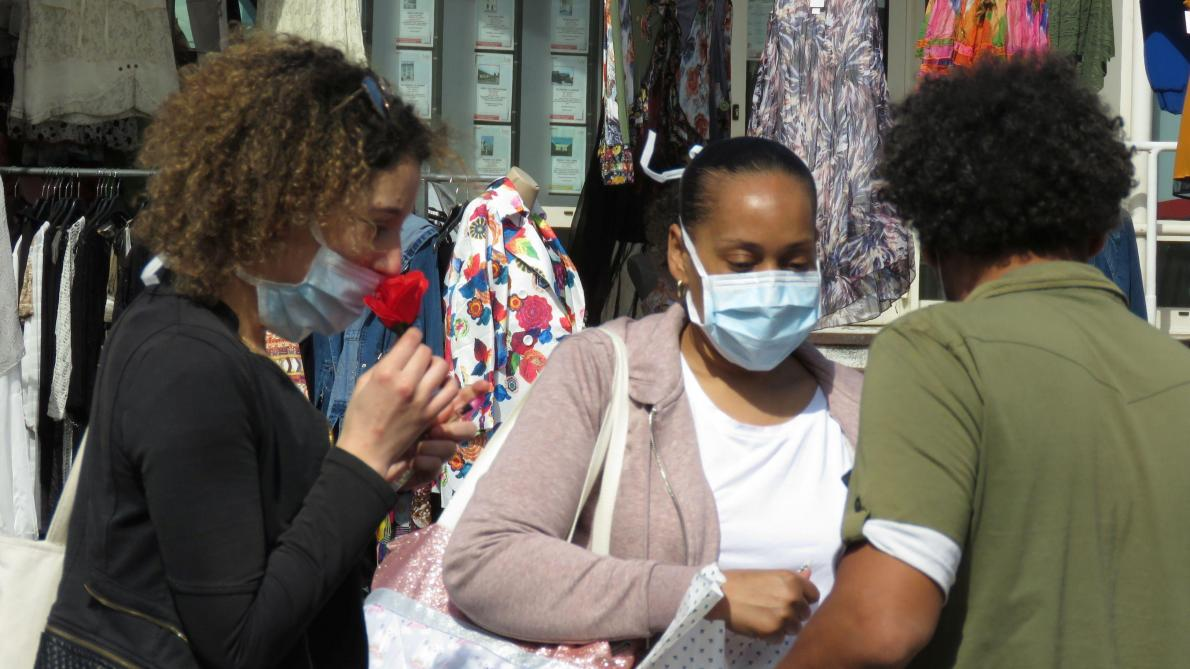with_incorrect_mask: (286, 95, 416, 361)
with_mask: (682, 155, 818, 371)
